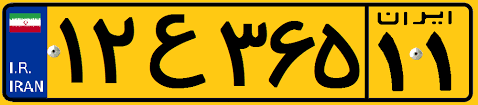character: (146, 10, 211, 93), (218, 9, 269, 92), (89, 11, 141, 90), (267, 12, 314, 92), (314, 13, 361, 93), (421, 27, 462, 95), (374, 30, 411, 94), (57, 13, 86, 88)
